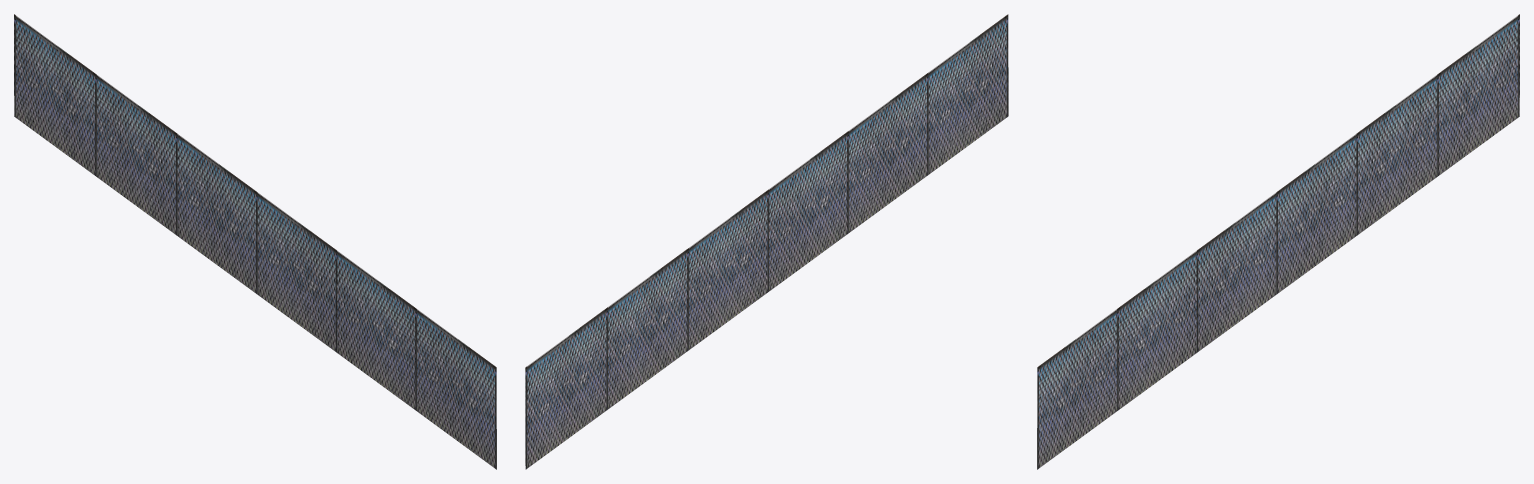
Rendered from fence.glb.
3 renders of one model, left to right at view 1: azimuth 30°, elevation 25°; view 2: azimuth 150°, elevation 25°; view 3: azimuth 330°, elevation 25°, orthographic.
Parts seen in each view (by area): view 1: fence; view 2: fence; view 3: fence.
Part boxes in pixels (bbox=[...]): fence: bbox=[14, 14, 496, 469]; fence: bbox=[525, 14, 1008, 469]; fence: bbox=[1037, 14, 1519, 469].
Size of the model in its own units: 0.0166 by 297 by 2535.
1 material, 1 textured.
